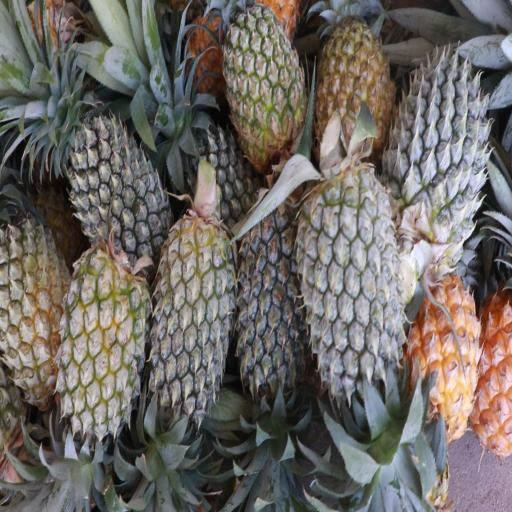------------------------------: (62, 248, 150, 442), (224, 0, 308, 170), (0, 220, 73, 407)
Pineapple - v8 v1: (315, 8, 392, 178), (409, 277, 481, 436)
